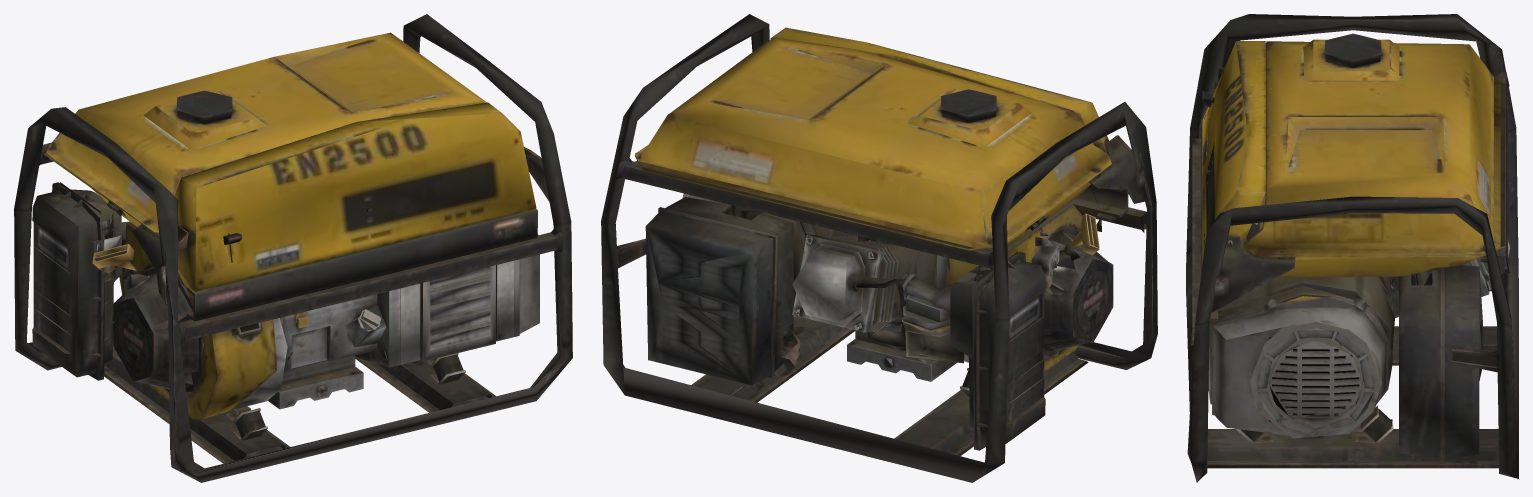
File: generator.glb
The picture shows the model from 3 angles, left to right: view 1: azimuth 30°, elevation 25°; view 2: azimuth 150°, elevation 25°; view 3: azimuth 270°, elevation 25°; orthographic projection.
Visible parts, largest first — view 1: portable_generator; view 2: portable_generator; view 3: portable_generator.
Boxes of the visible parts, <box> form: portable_generator: <box>14,14,572,482</box>; portable_generator: <box>601,14,1157,482</box>; portable_generator: <box>1186,14,1518,482</box>.
Bounding box in the file's own units: 0.8146 × 0.5752 × 0.5615.
2 materials, 2 textured.
